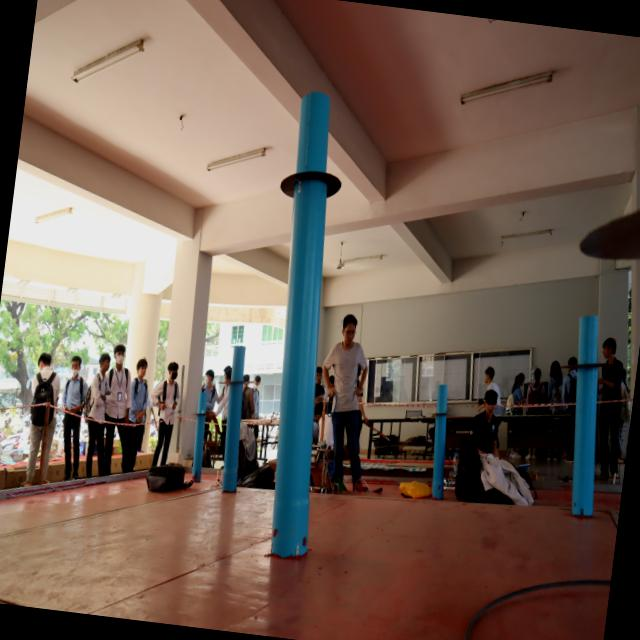pole: (266, 87, 363, 276), (556, 308, 620, 420), (214, 340, 260, 410), (425, 386, 461, 440), (186, 381, 214, 436)
